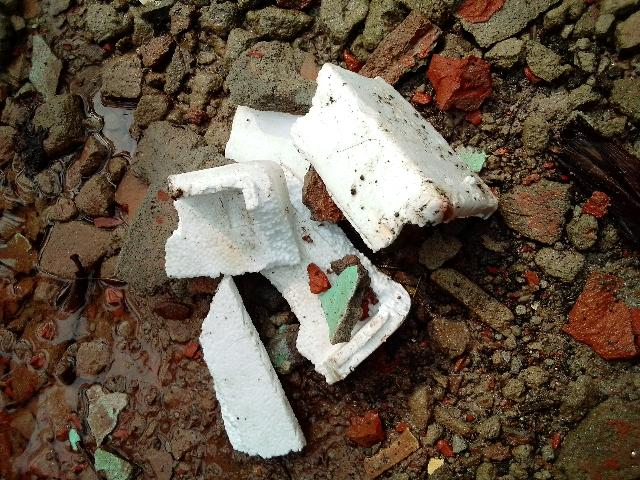cocksheet: (79, 22, 519, 451)
